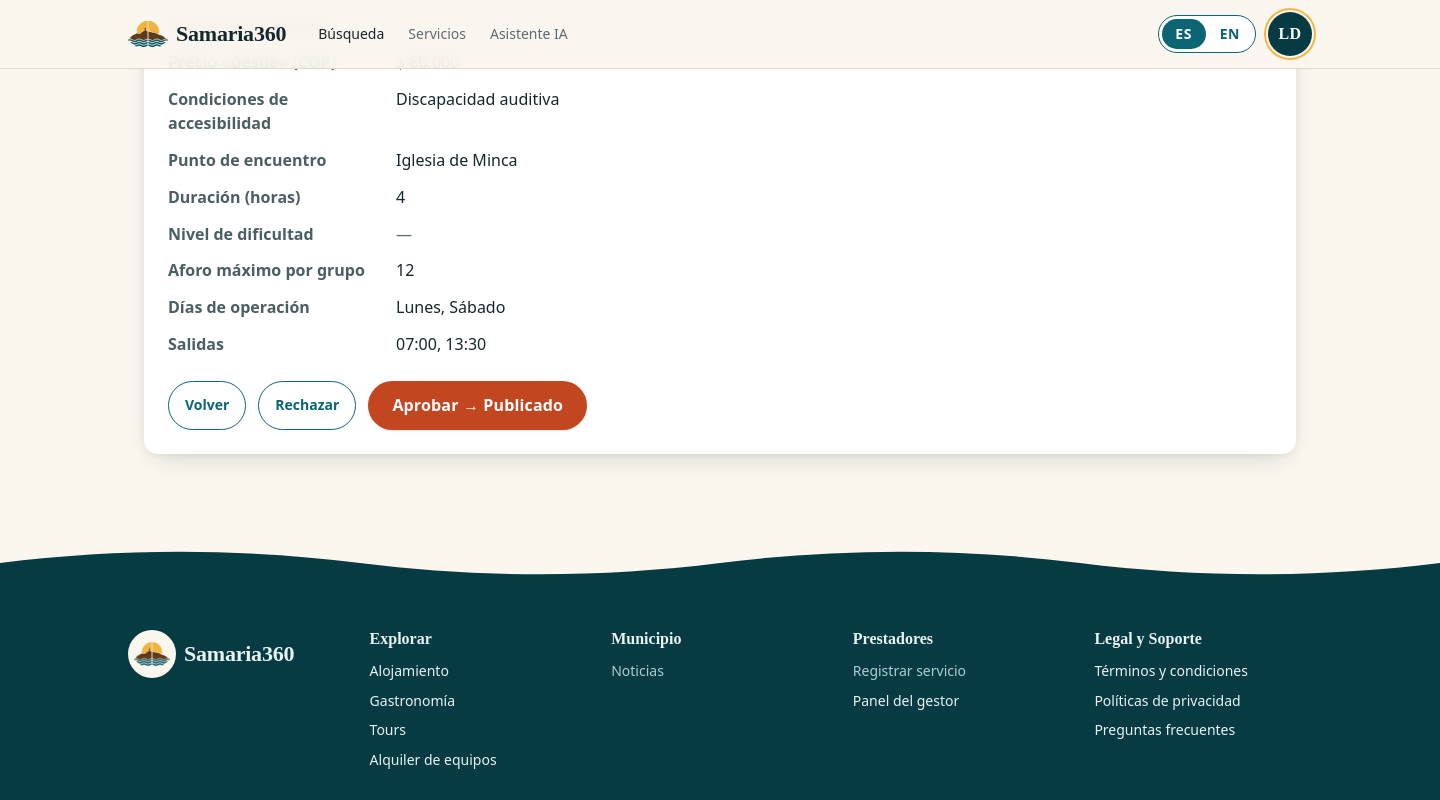
Rechazar con justificación («Justificar rechazo de servicio», DEC-177) › sin justificación no se envía; con ella, el cuerpo lleva el texto recortado y la cola anuncia el rechazo
The width and height of the screenshot is (1440, 800).
(page scrolled)
Click the button "Rechazar" at (307, 405), box [258,381,356,430]
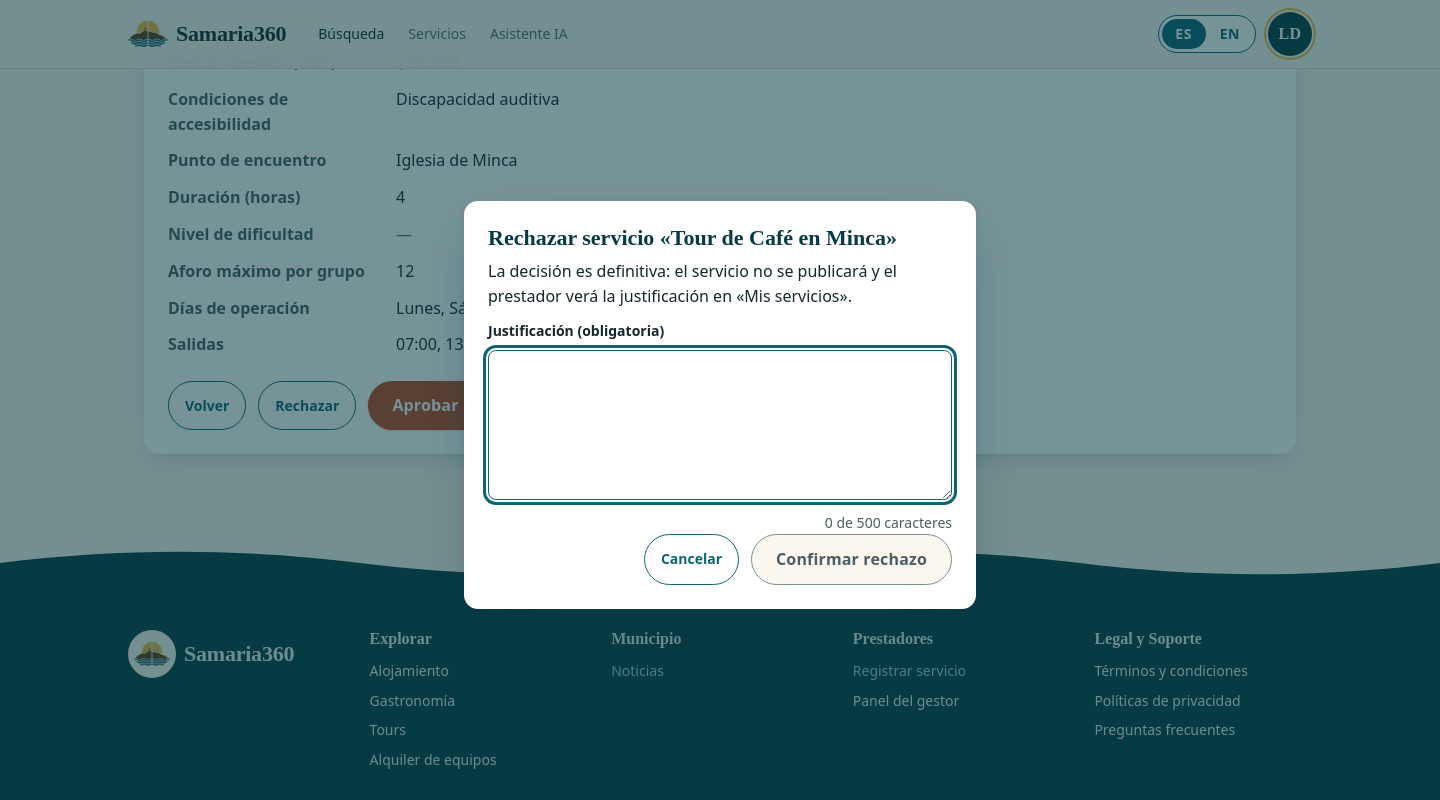
Expected: the dialog "Rechazar servicio «Tour de Café en Minca»" shows "el prestador verá la justificación en «Mis servicios»", [488,260,897,307]
Expected: the text "0 de 500 caracteres" is shown, [825,513,952,532]
Click the button "Confirmar rechazo" at (852, 559), box [751,534,952,584]
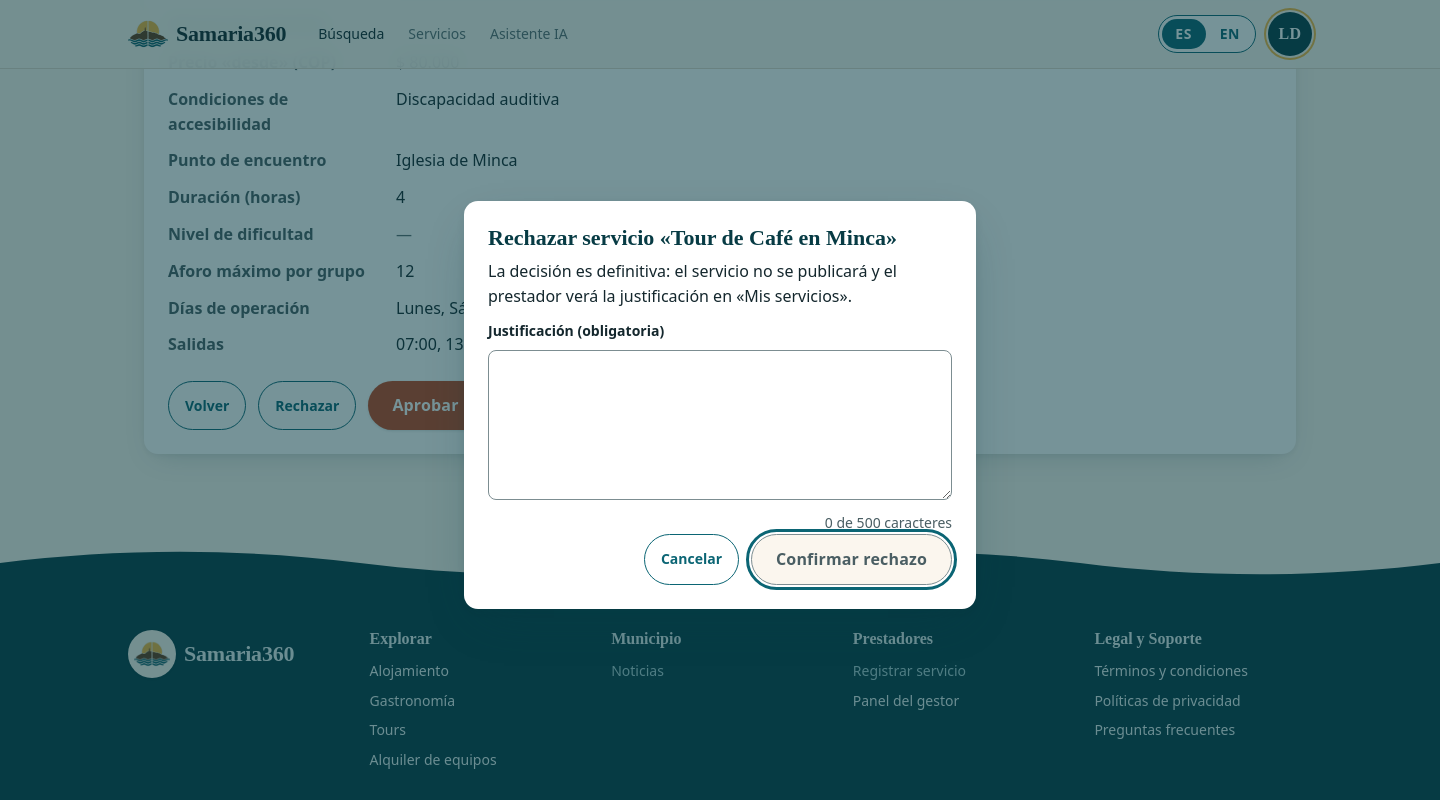
Type "  Las fotos no corresponden al lugar  " into the text box labelled "Justificación (obligatoria)" at (720, 425), box [488,350,952,500]
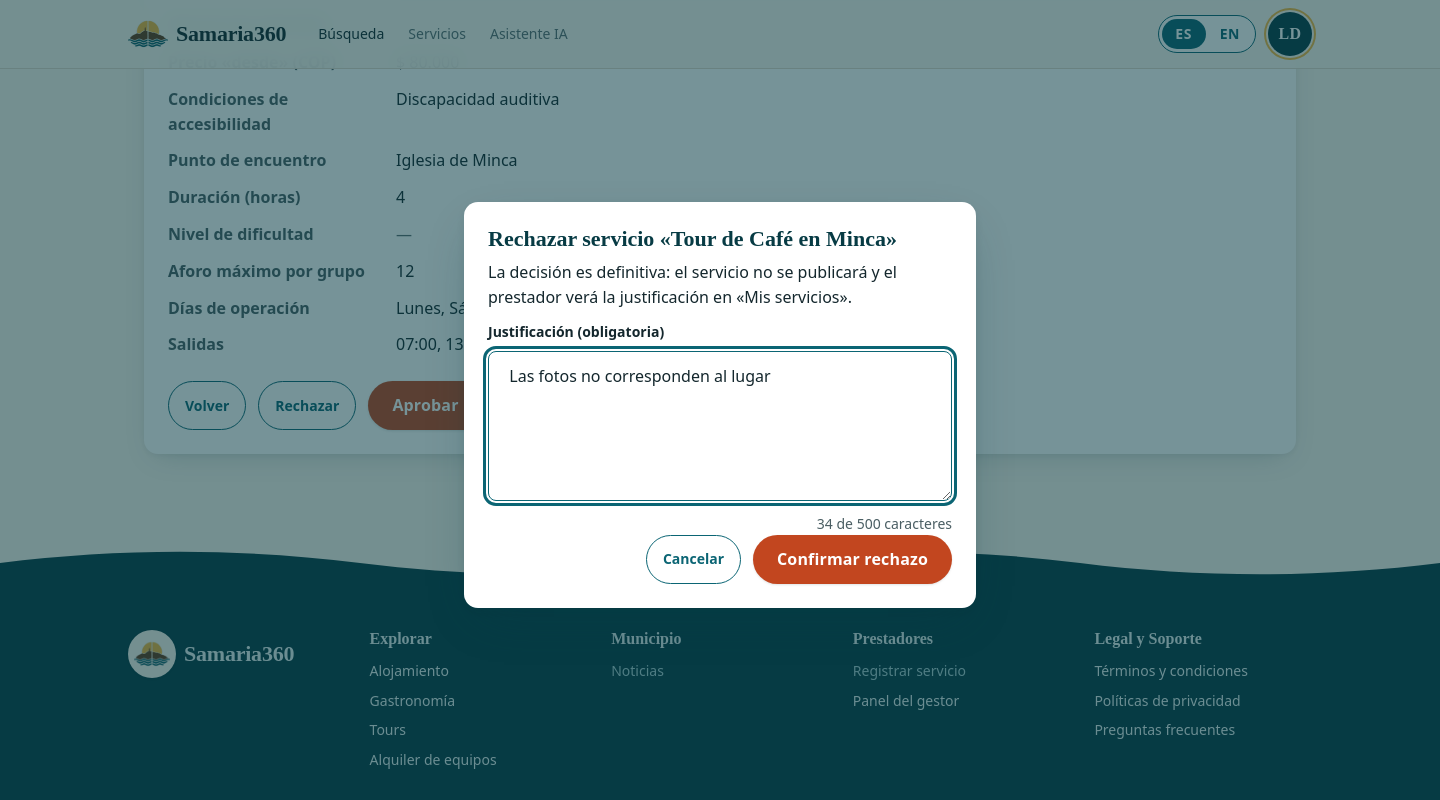
Click the button "Confirmar rechazo" at (852, 559), box [753,535,952,584]
(page scrolled)
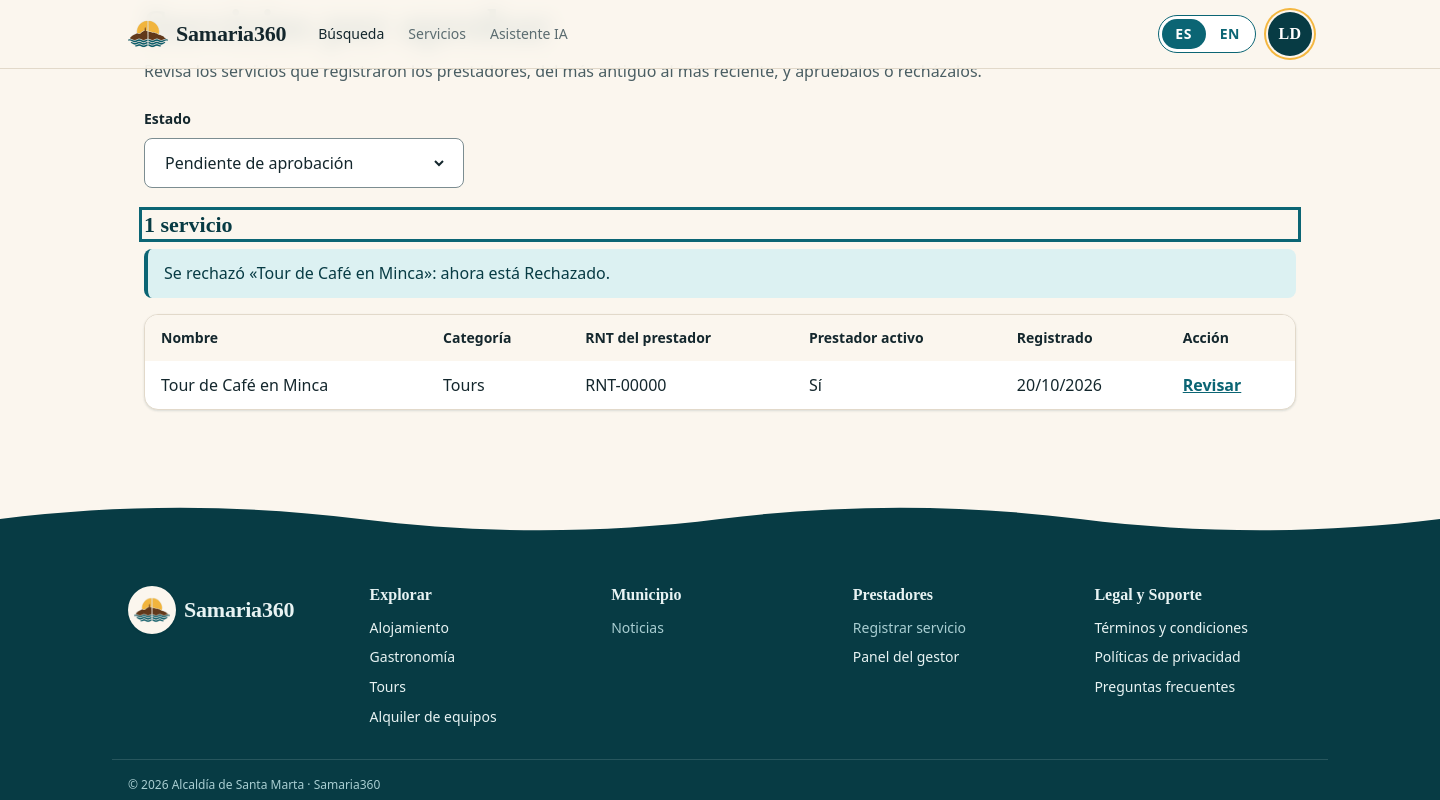
Expected: the text "Se rechazó «Tour de Café en Minca»: ahora está Rechazado." is shown once, [144,249,1296,298]
